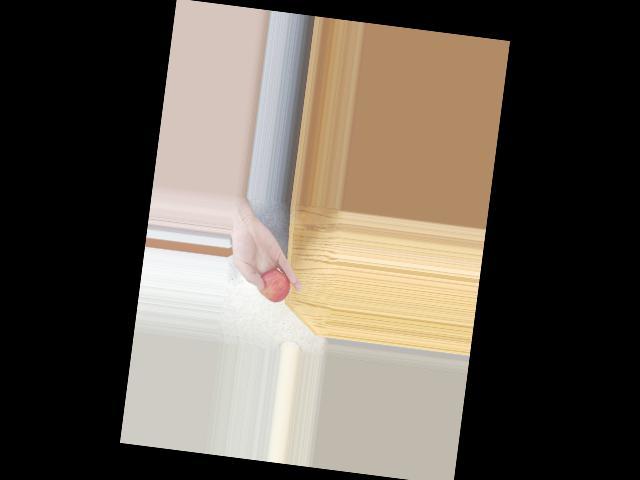apple: (253, 263, 292, 304)
